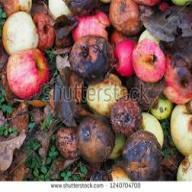apple: (6, 48, 50, 99), (70, 40, 114, 82), (121, 130, 161, 174), (32, 11, 76, 51), (130, 36, 166, 84), (76, 117, 115, 160), (108, 95, 144, 133), (163, 53, 191, 101), (70, 6, 108, 40), (110, 38, 141, 78), (3, 14, 38, 49), (107, 2, 141, 34), (54, 119, 80, 160)
